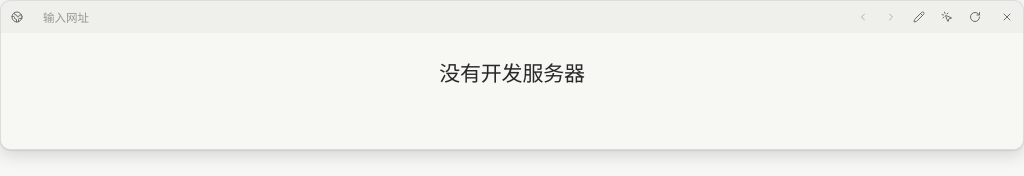
Scenario: BrowserPanel › takes the page out from under its own error strip
The image size is (1024, 176).
Click the button named "服务器与设置".
click(17, 17)  # box [5,5,29,29]
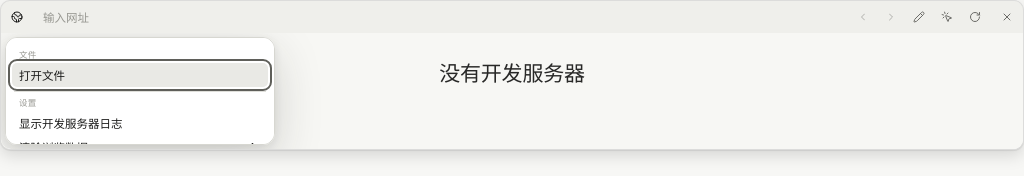
Click the menu item "打开文件".
click(140, 75)  # box [12,63,268,87]
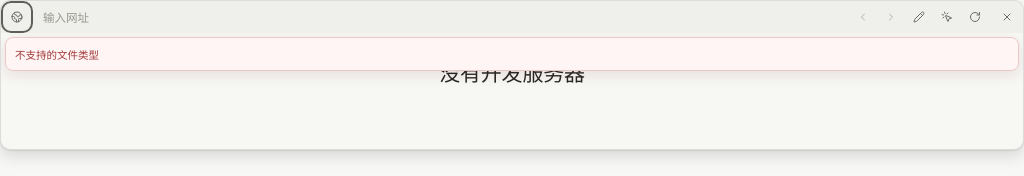
Check: the message "不支持的文件类型" is shown, box [5,37,1019,71]
